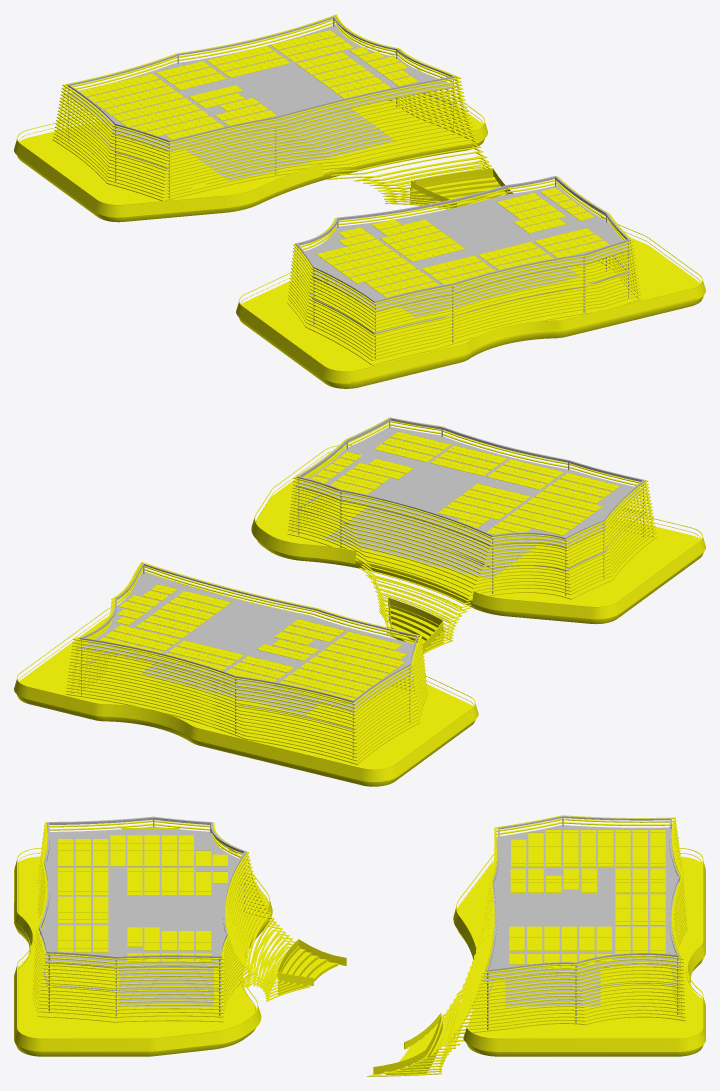
File: sm_hana_building_ph1f_out.glb
3 renders of one model, top to bottom at view 1: azimuth 30°, elevation 25°; view 2: azimuth 150°, elevation 25°; view 3: azimuth 270°, elevation 25°, orthographic. The views are drawn at different scales.
Visible parts, largest first — view 1: sm_hana_building_ph1f_out; view 2: sm_hana_building_ph1f_out; view 3: sm_hana_building_ph1f_out.
Part boxes in pixels (left/top/right/bottom): sm_hana_building_ph1f_out: left=14, top=14, right=705, bottom=388; sm_hana_building_ph1f_out: left=14, top=417, right=705, bottom=786; sm_hana_building_ph1f_out: left=14, top=815, right=705, bottom=1076.
Size of the model in its own units: 66.45 by 15.89 by 100.
8 materials, 5 textured.
